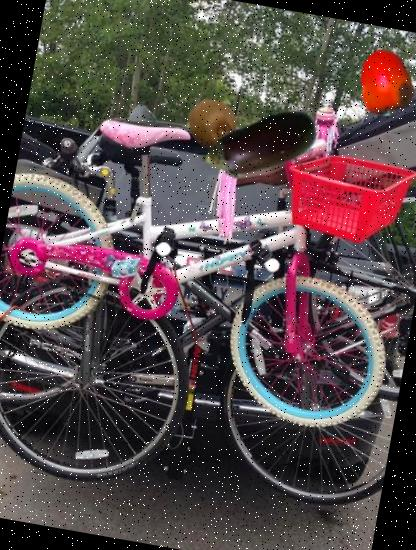Eggplant: (188, 76, 330, 218)
Kaki: (347, 43, 416, 121)
Kiwi: (182, 94, 242, 154)
